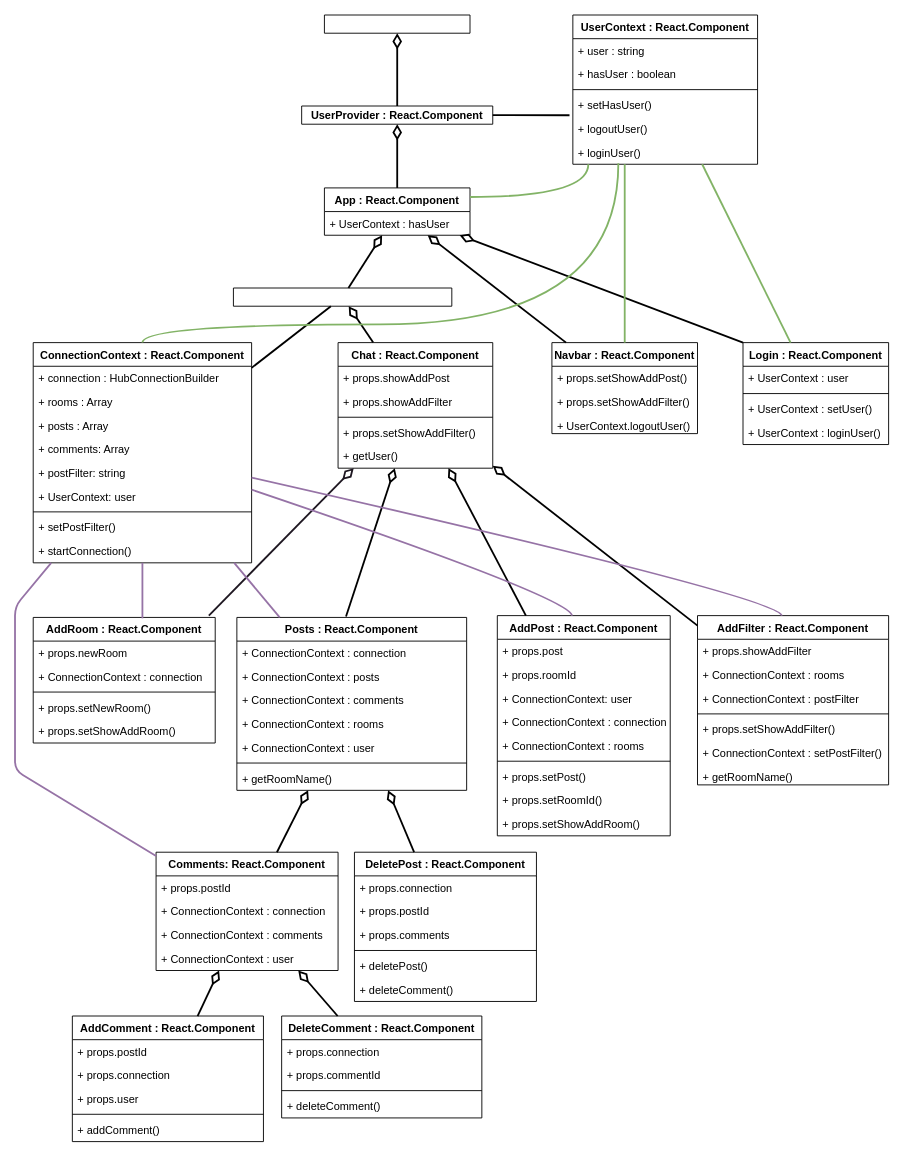
This 904x1157 diagram has some shape labels left out. The shapes that lost their labels are listed below. From the top down, each one's centre as x and y in pixels, then its label:
pixel 397 23: Index : React.Component
pixel 342 296: ConnectionProvider : React.Component
